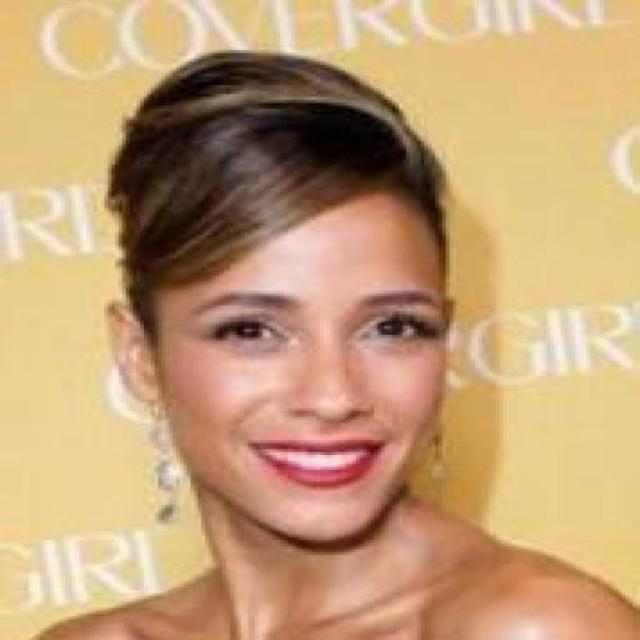bareface: (145, 54, 449, 532)
